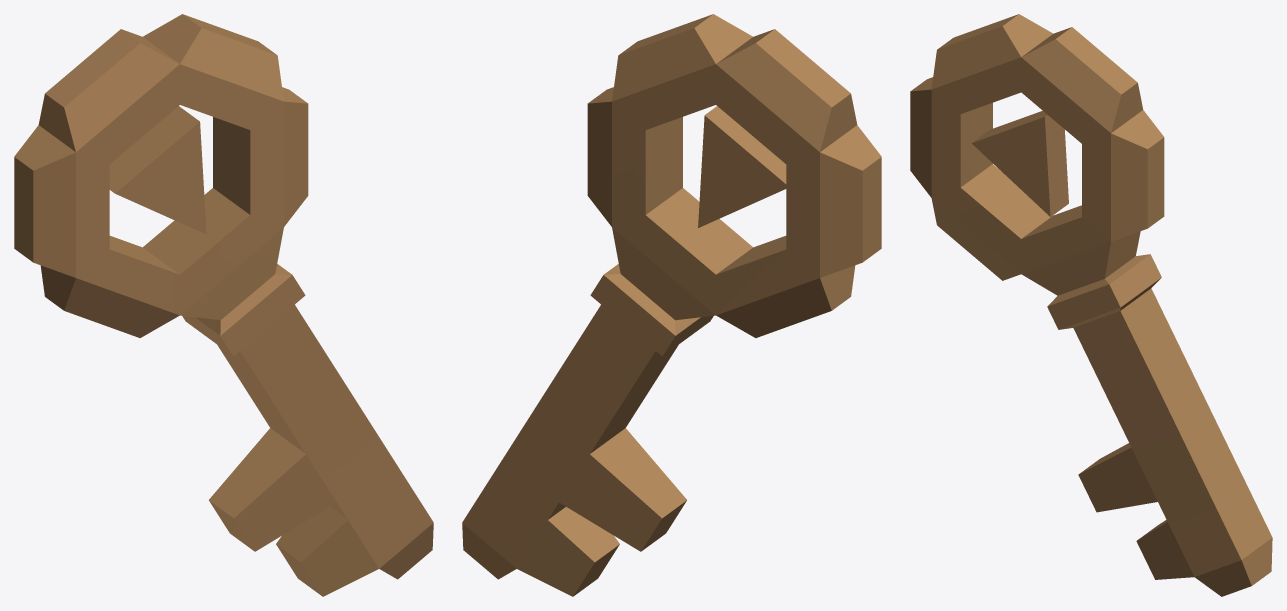
Rendered from towerKey3.fbx.
3 views of the same model, side by side, from view 1: azimuth 30°, elevation 25°; view 2: azimuth 150°, elevation 25°; view 3: azimuth 330°, elevation 25° (orthographic). The views are drawn at different scales.
Parts seen in each view (by area): view 1: towerKey3; view 2: towerKey3; view 3: towerKey3.
Part boxes in pixels (x1,y1,x2,y2): towerKey3: (14, 14, 433, 596); towerKey3: (462, 14, 881, 596); towerKey3: (910, 14, 1272, 596).
Bounding box in the file's own units: 0.6671 × 0.9585 × 0.1391.
